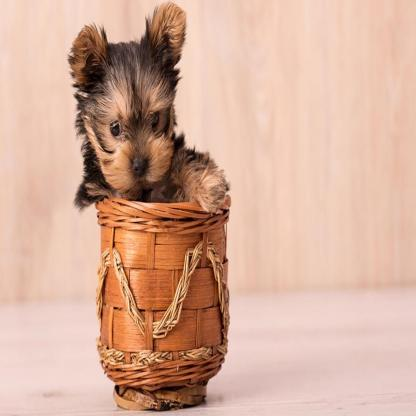dog: (71, 1, 231, 214)
